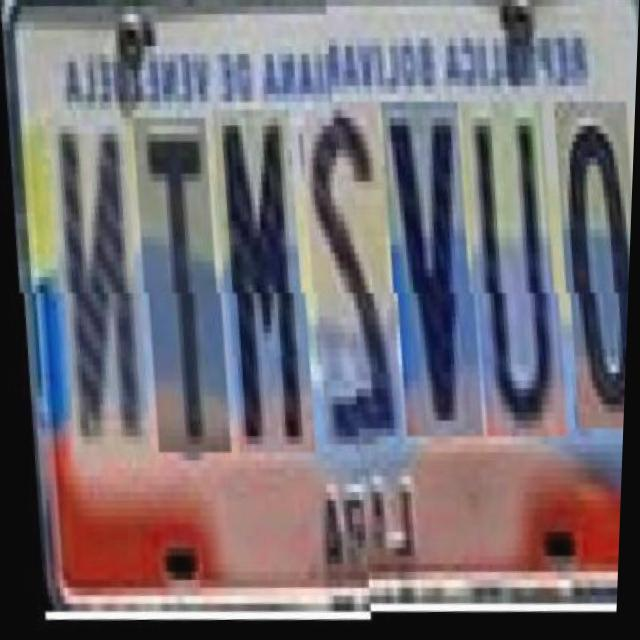2: (289, 112, 403, 454)
m: (200, 112, 314, 462)
n: (36, 119, 150, 469)
o: (543, 112, 636, 446)
t: (120, 119, 230, 461)
u: (450, 112, 567, 454)
v: (370, 112, 483, 454)
